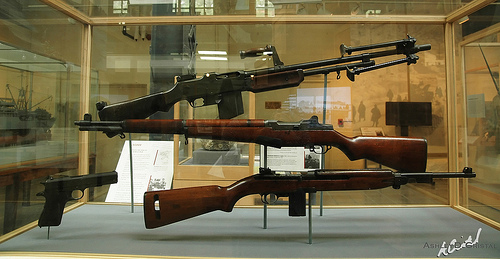pistol: (36, 172, 117, 229)
rifle: (89, 39, 440, 106), (135, 170, 477, 236), (78, 108, 430, 165)
